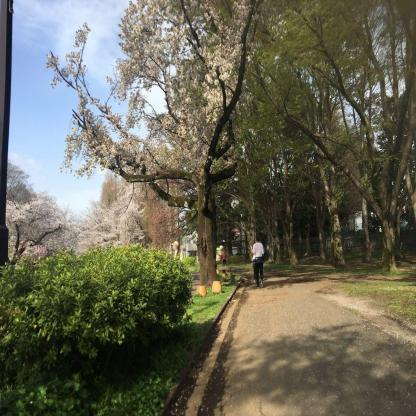Someiyoshino: (31, 0, 273, 184), (7, 182, 152, 262)
